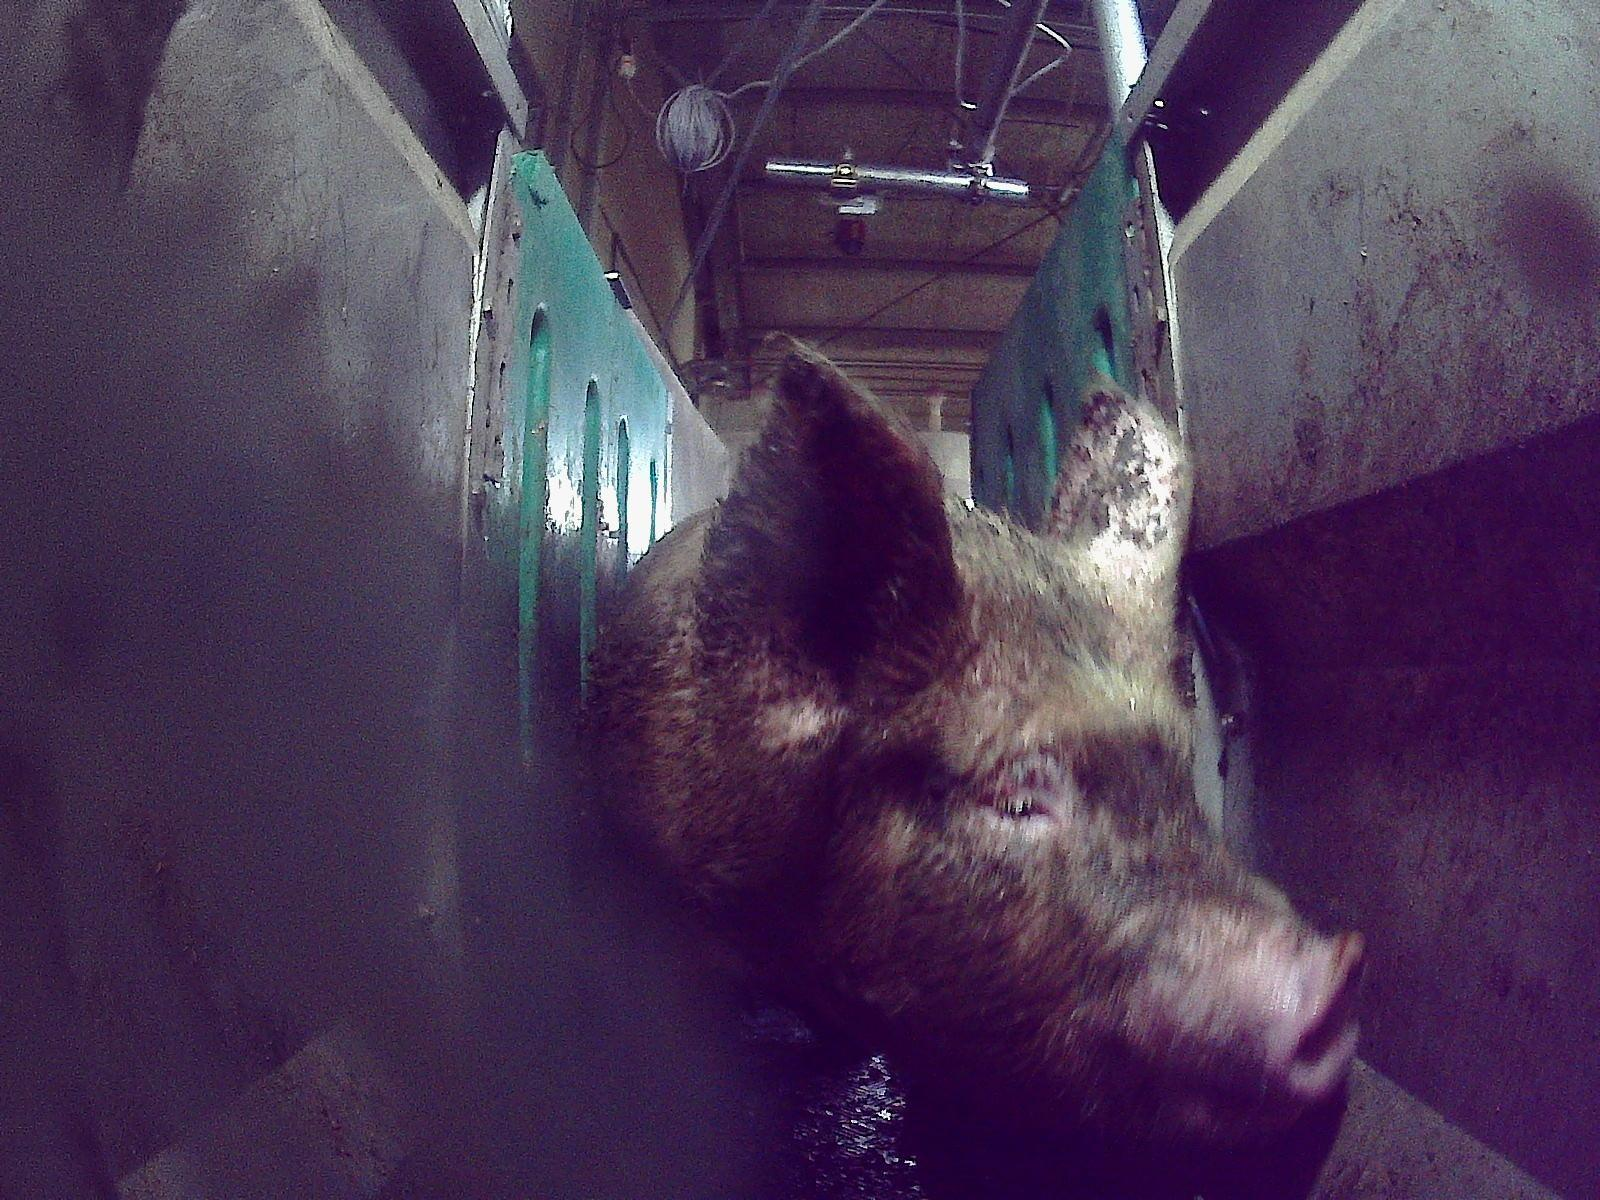Face: (759, 520, 1365, 1176)
